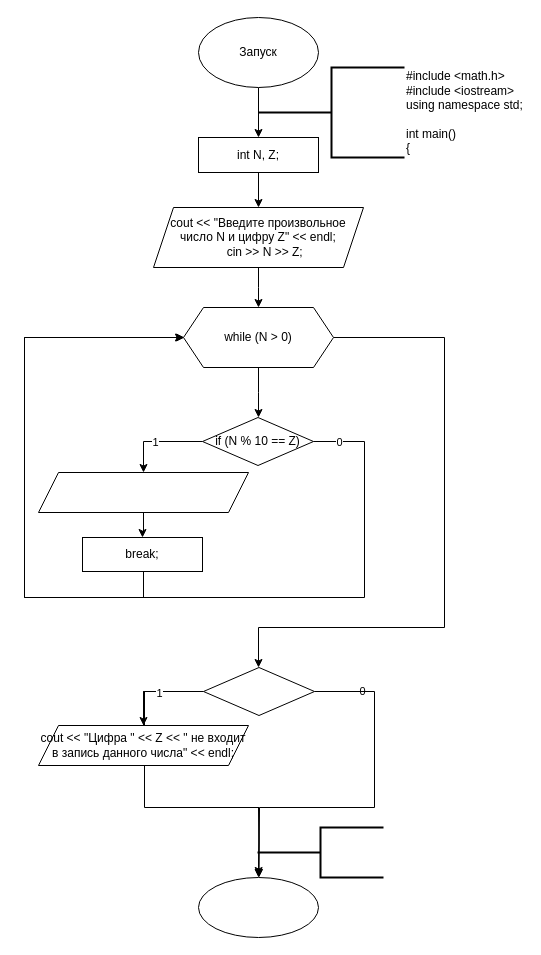
Image size: 541x955. Some labels were removed from this diagram. The centre of each missing label's shape, as x and y in pixels:
cout << "Цифра " << Z << " входит в запись данного числа" << endl;: pixel 143 492
if (N <= 0): pixel 258 691
return 0; }: pixel 320 852
Конец: pixel 258 907
